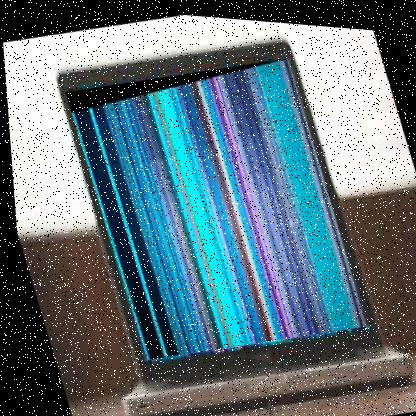lines: (60, 38, 368, 374)
